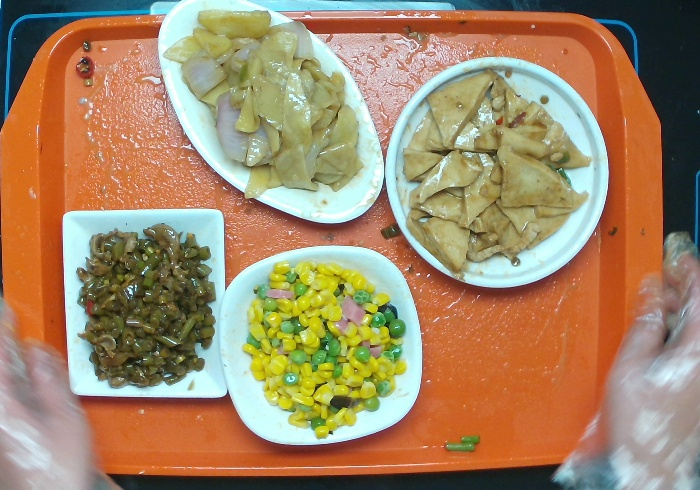HZYJPL-Si_Fang_Die: (59, 206, 229, 401)
HZYJPL-Si_Fang_Yuan_Die: (217, 243, 424, 447)
HZYJPL-Xiao_Yu_Die: (156, 1, 386, 227)
HZYJPL-Xiao_Yuan_Die: (379, 54, 613, 290)
